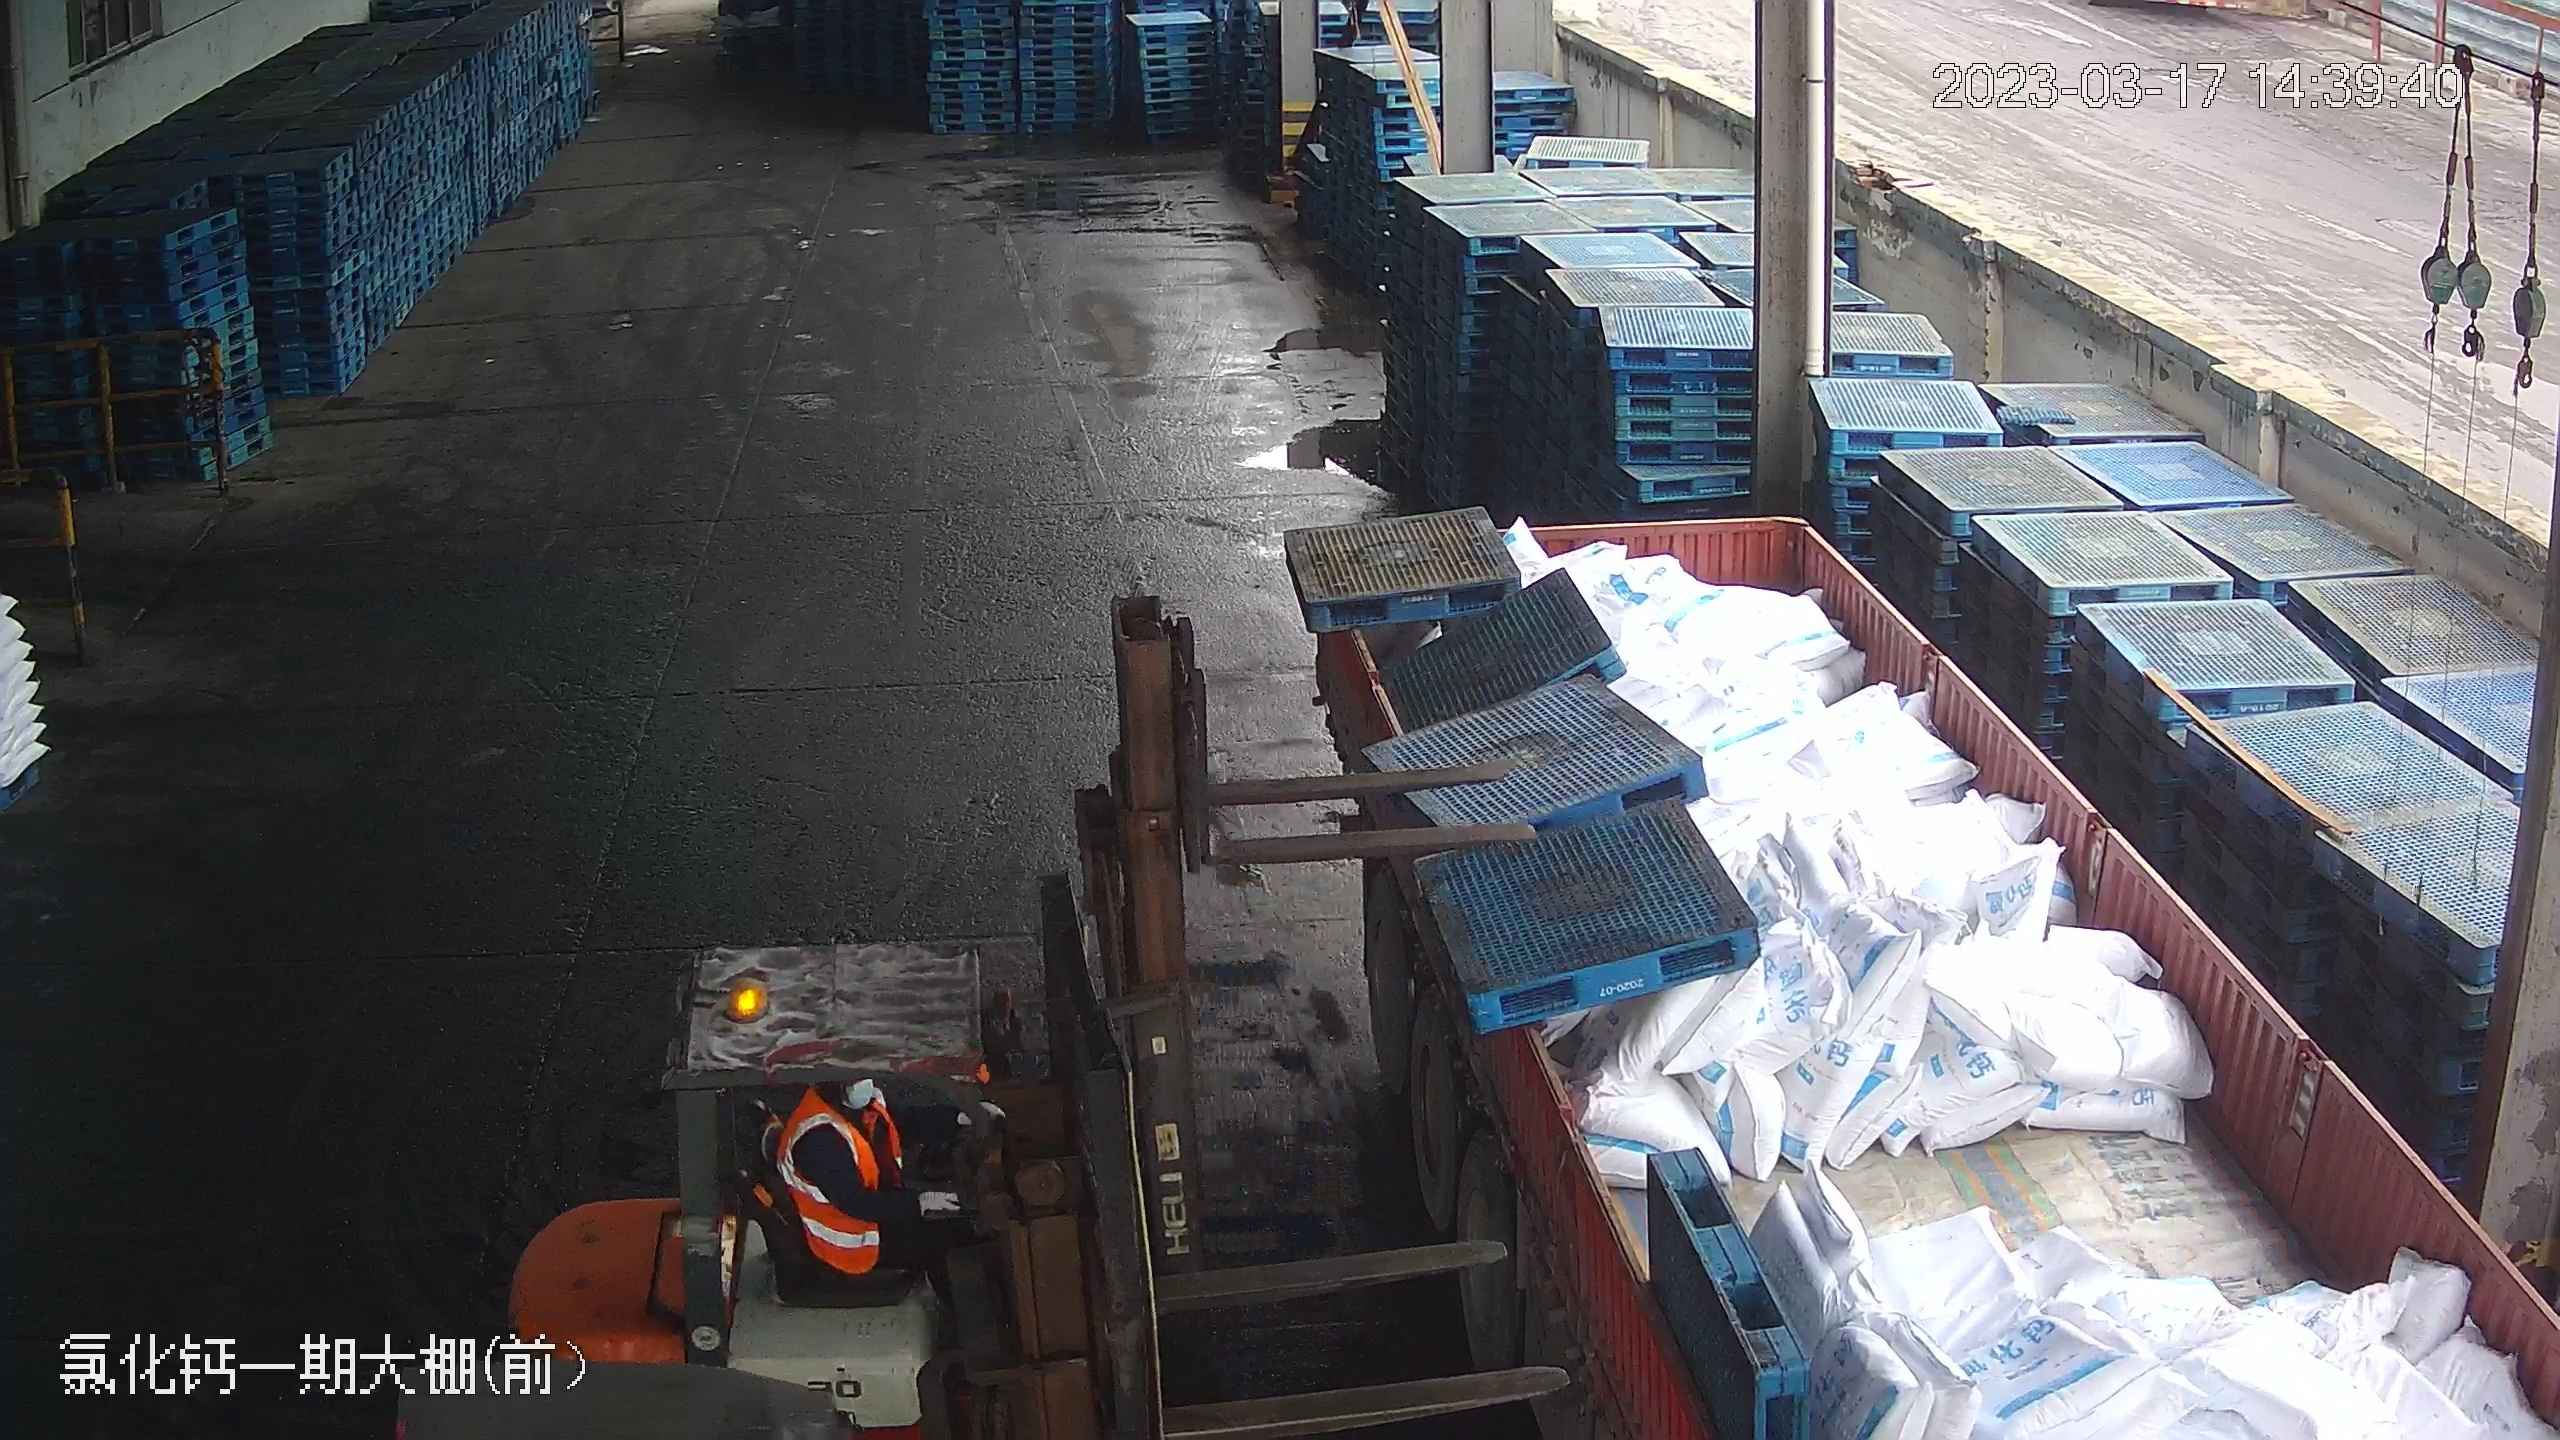people: (771, 1074, 1023, 1371)
truck: (1258, 505, 2550, 1437)
